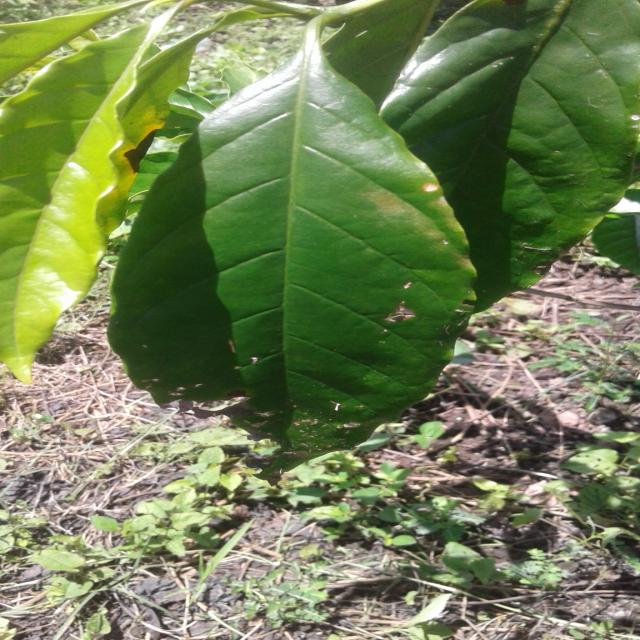Enfermedad-Roya: (108, 0, 476, 457)
